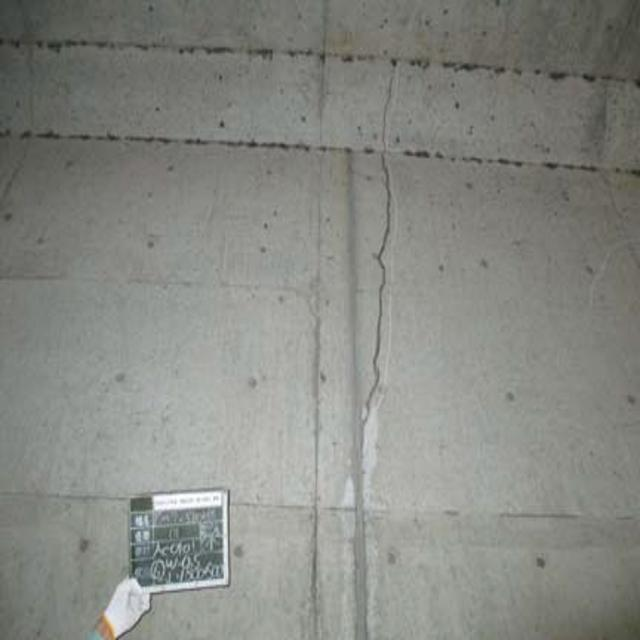crack: (343, 62, 427, 474)
